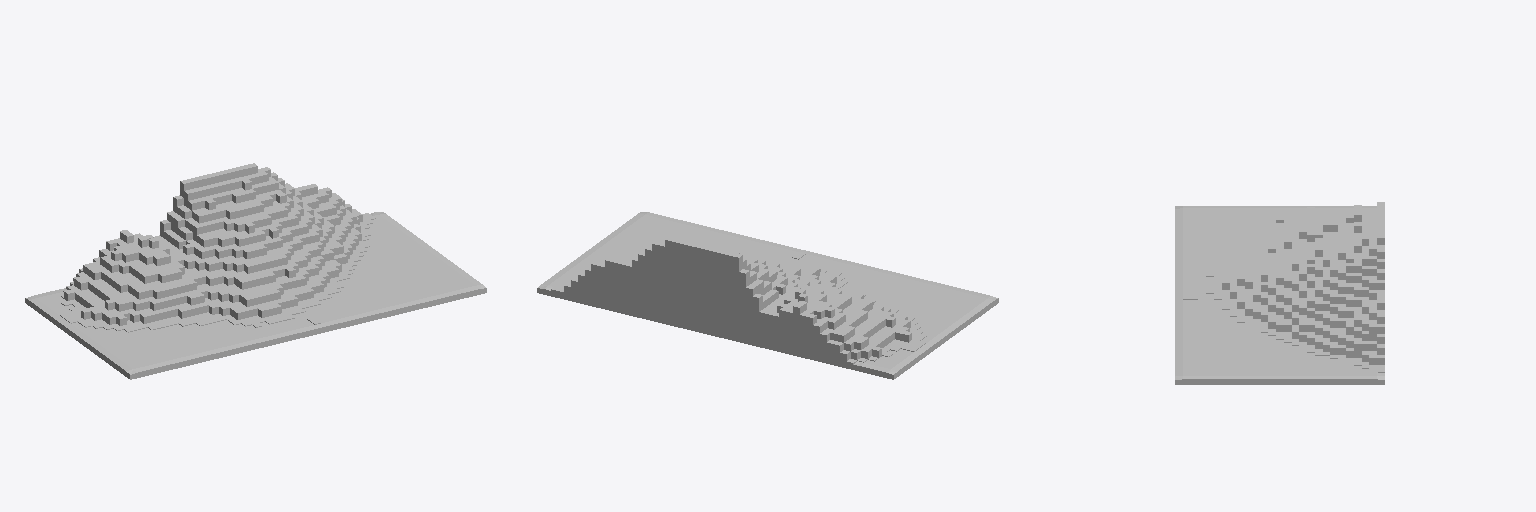
3 renders of one model, left to right at view 1: azimuth 30°, elevation 25°; view 2: azimuth 150°, elevation 25°; view 3: azimuth 270°, elevation 25°, orthographic.
Visible parts, largest first — view 1: discord__201_62_217_to_253_255_243; view 2: discord__201_62_217_to_253_255_243; view 3: discord__201_62_217_to_253_255_243.
Boxes of the visible parts, x1=… form: discord__201_62_217_to_253_255_243: x1=25, y1=163, x2=486, y2=379; discord__201_62_217_to_253_255_243: x1=537, y1=212, x2=998, y2=379; discord__201_62_217_to_253_255_243: x1=1175, y1=202, x2=1384, y2=384.
Size of the model in its own units: 53 by 12 by 27.